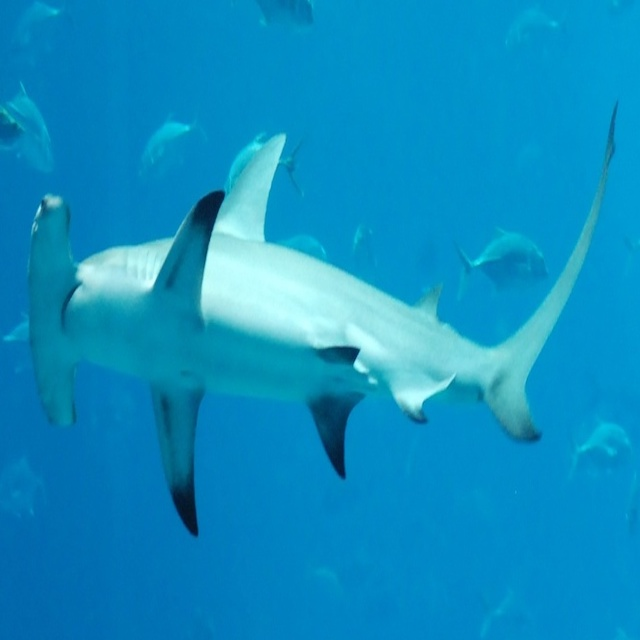hammerhead: (24, 196, 302, 440)
